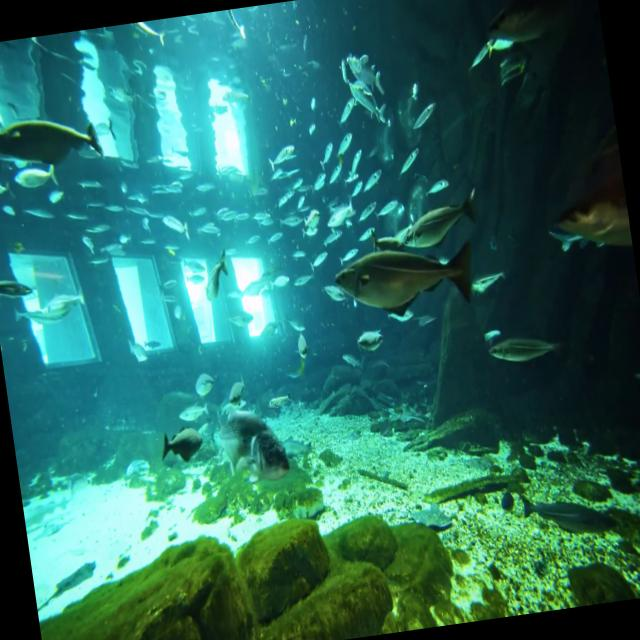fish: (329, 226, 483, 326), (0, 94, 117, 183), (382, 177, 486, 260), (542, 180, 634, 268), (477, 320, 574, 382), (150, 394, 217, 476), (192, 239, 240, 314), (404, 81, 448, 140), (462, 267, 514, 300)
